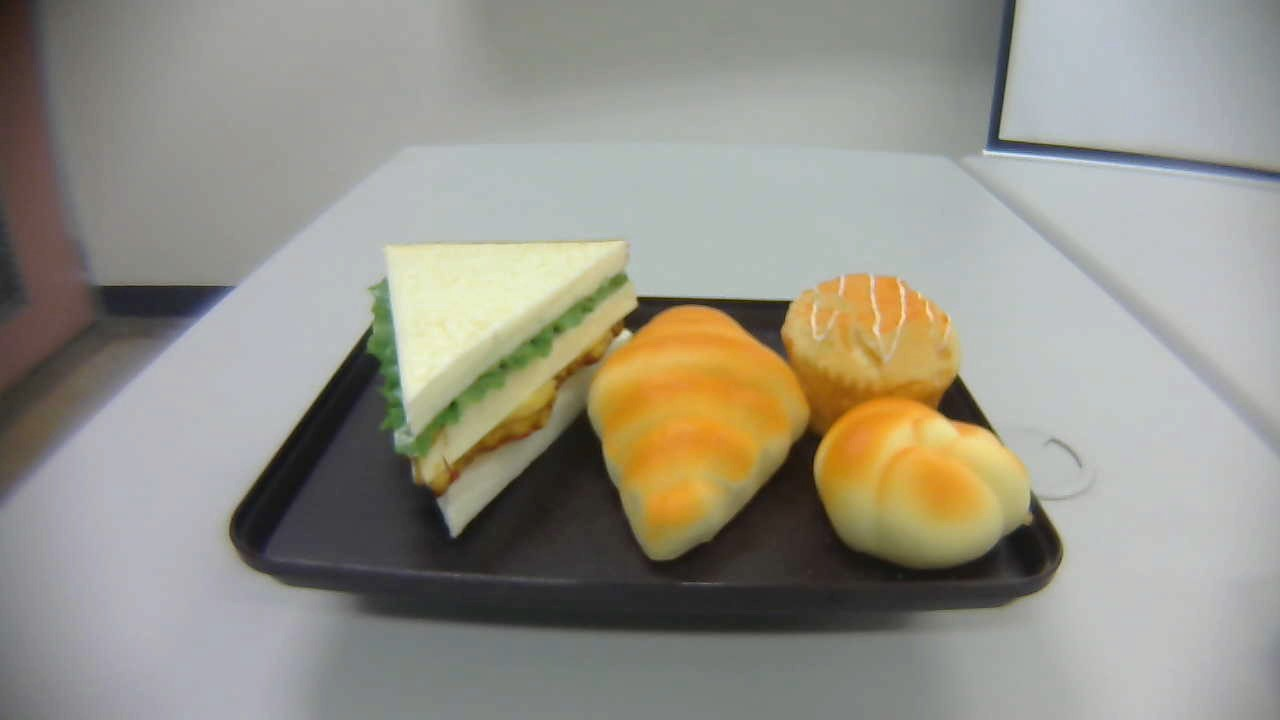croissant: (587, 301, 813, 568)
cupcake: (782, 272, 961, 442)
sandwich: (364, 238, 638, 539)
twist bread: (813, 397, 1036, 575)
